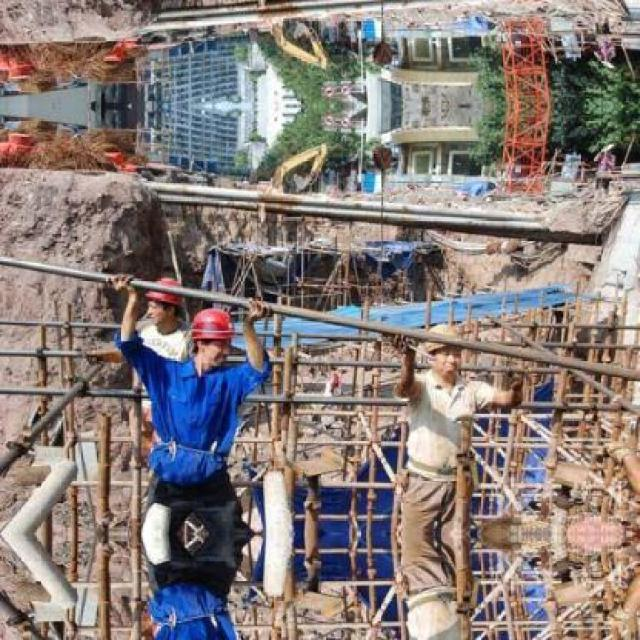helmet: (186, 306, 232, 365), (422, 318, 464, 378), (142, 272, 184, 325)
